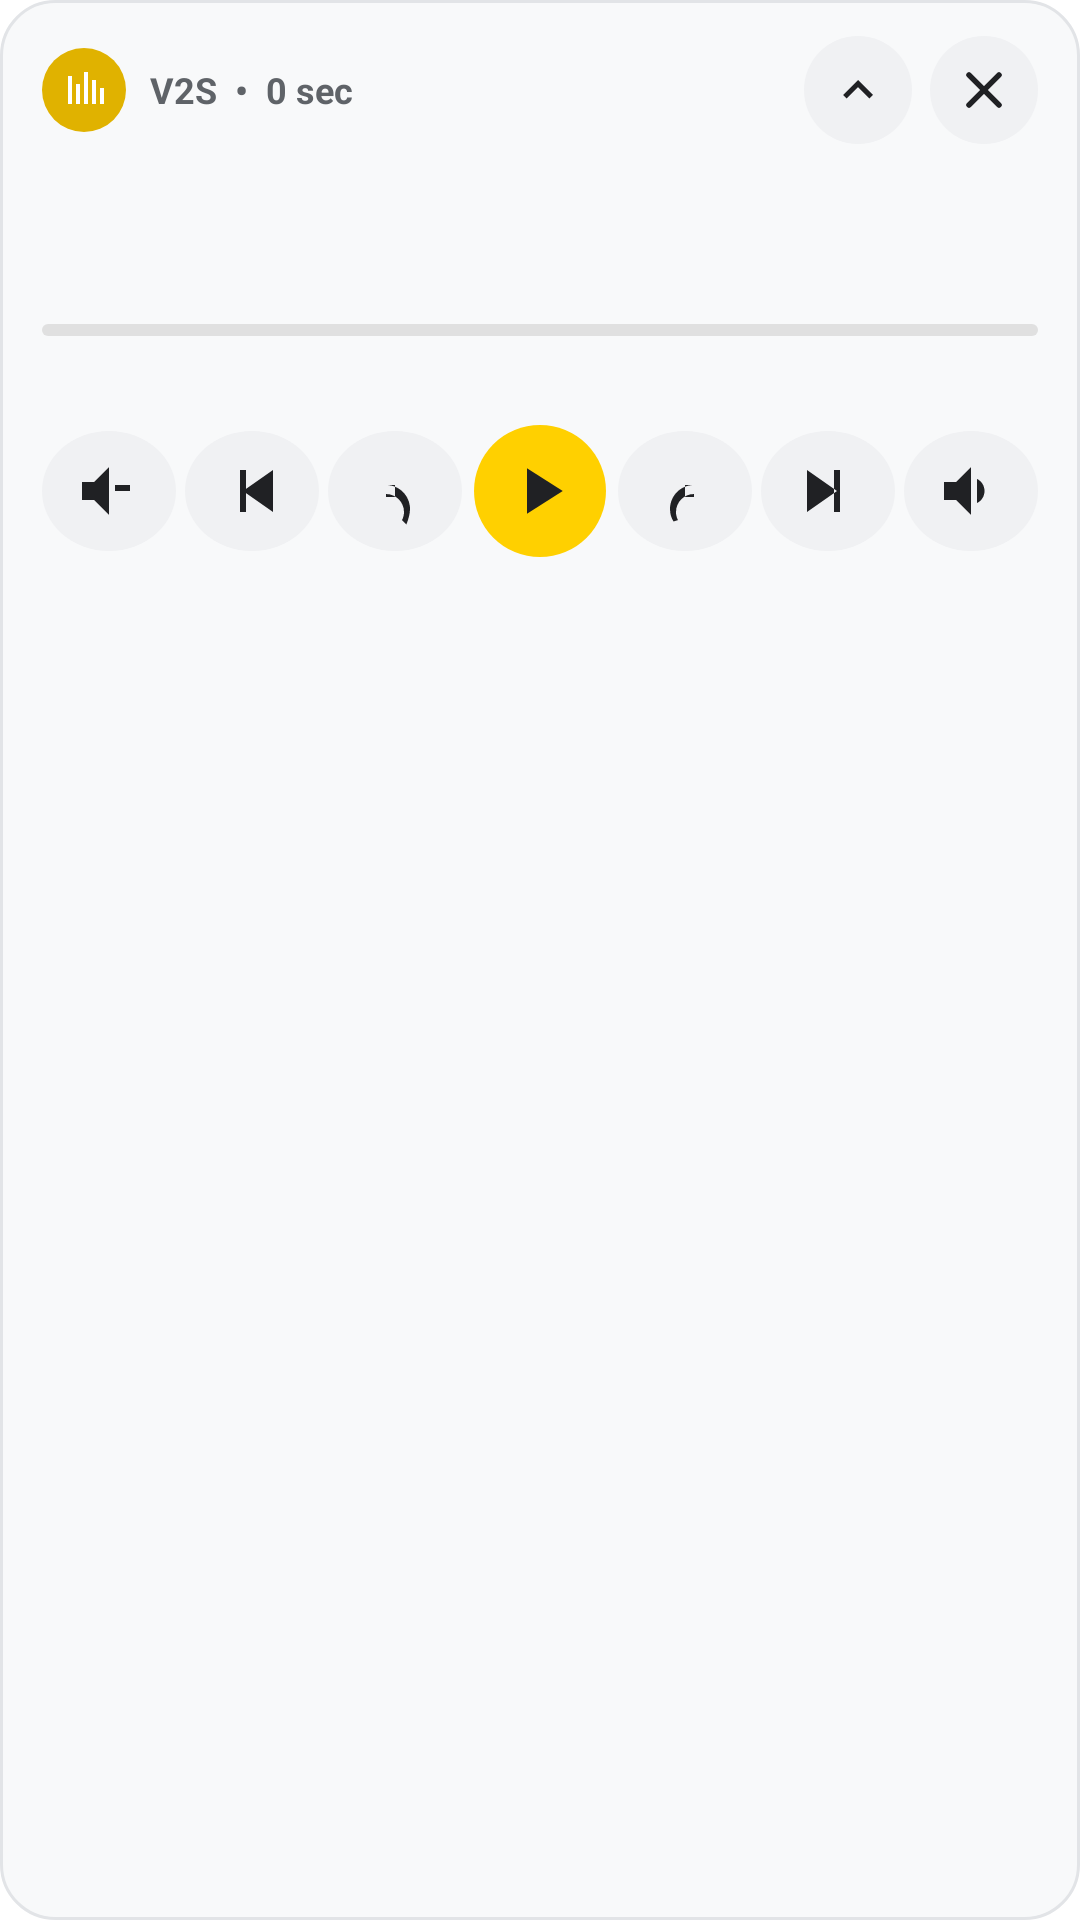

Where to tap for icons on this 1080x1920 app screen, as (x,y):
Close notification and application: (984,90)
Collapse: (858,89)
Next track: (823,491)
Play or pause: (540,491)
Previous track: (256,491)
Volume down: (106,491)
Volume up: (964,491)
